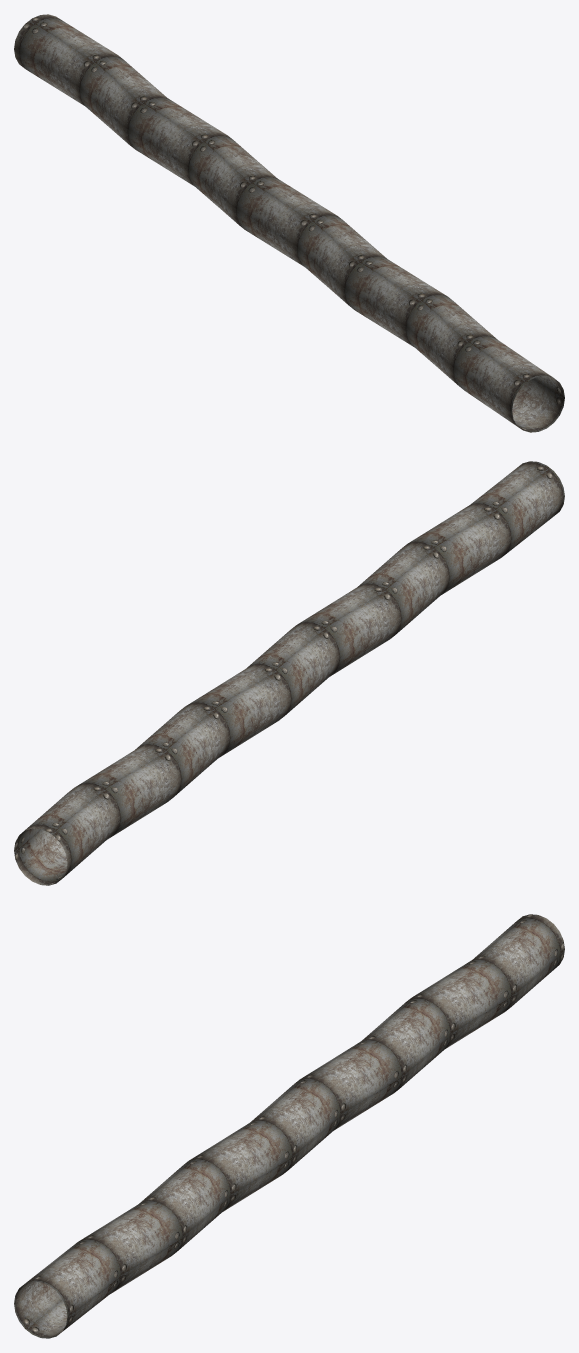
File: Pipe3.fbx
The picture shows the model from 3 angles, top to bottom: view 1: azimuth 30°, elevation 25°; view 2: azimuth 150°, elevation 25°; view 3: azimuth 330°, elevation 25°; orthographic projection.
Visible parts, largest first — view 1: pCylinder1; view 2: pCylinder1; view 3: pCylinder1.
Boxes of the visible parts, x1,y1,x2,y2 form: pCylinder1: (14,14,564,432); pCylinder1: (14,461,564,885); pCylinder1: (14,914,564,1338).
Size of the model in its own units: 9.88 by 8.73 by 142.
Materials: 1 (1 with a texture image).
